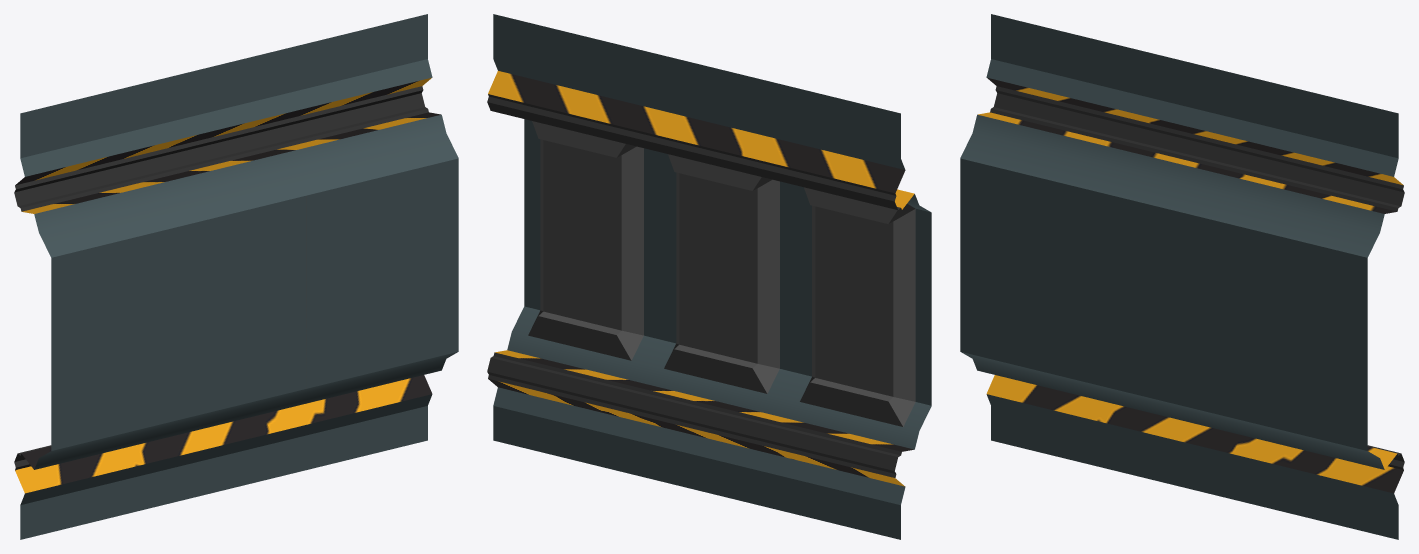
The model's file is SM_horizontal_elevator.fbx.
3 views of the same model, side by side, from view 1: azimuth 30°, elevation 25°; view 2: azimuth 150°, elevation 25°; view 3: azimuth 330°, elevation 25° (orthographic).
Visible parts, largest first — view 1: SM_horizontal_elevator; view 2: SM_horizontal_elevator; view 3: SM_horizontal_elevator.
Boxes of the visible parts, x1,y1,x2,y2 form: SM_horizontal_elevator: (14,14,458,539); SM_horizontal_elevator: (487,14,931,539); SM_horizontal_elevator: (960,14,1404,539).
Size of the model in its own units: 300 by 300 by 47.26.
1 material, 1 textured.
